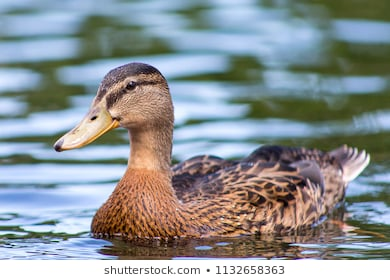duck: (38, 41, 380, 246)
